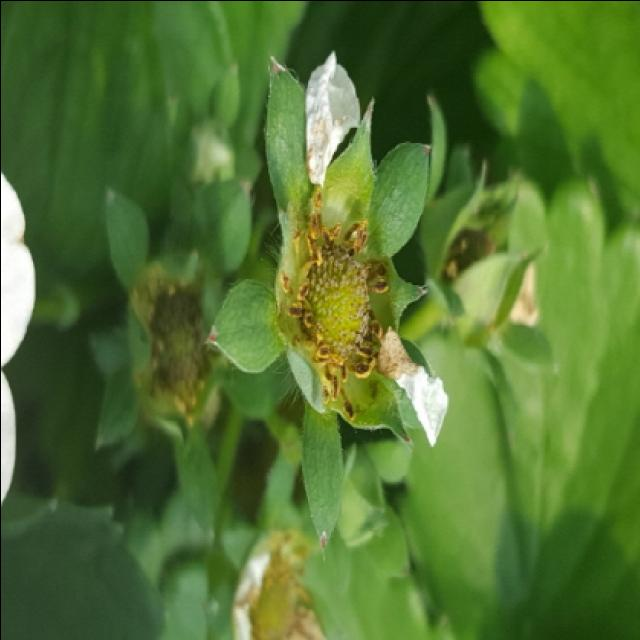Blossom Blight: (275, 181, 393, 423)
